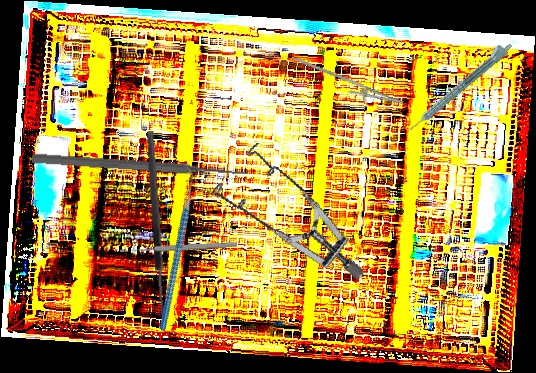Chopper: (107, 163, 243, 332)
Handpiece: (403, 37, 515, 134)
Hook Surgical: (144, 130, 178, 327)
Needle Holder: (285, 56, 408, 113)
Pusher: (31, 151, 248, 181)
Speculum: (200, 124, 366, 314)
Surgical Spoon: (119, 240, 238, 255)
